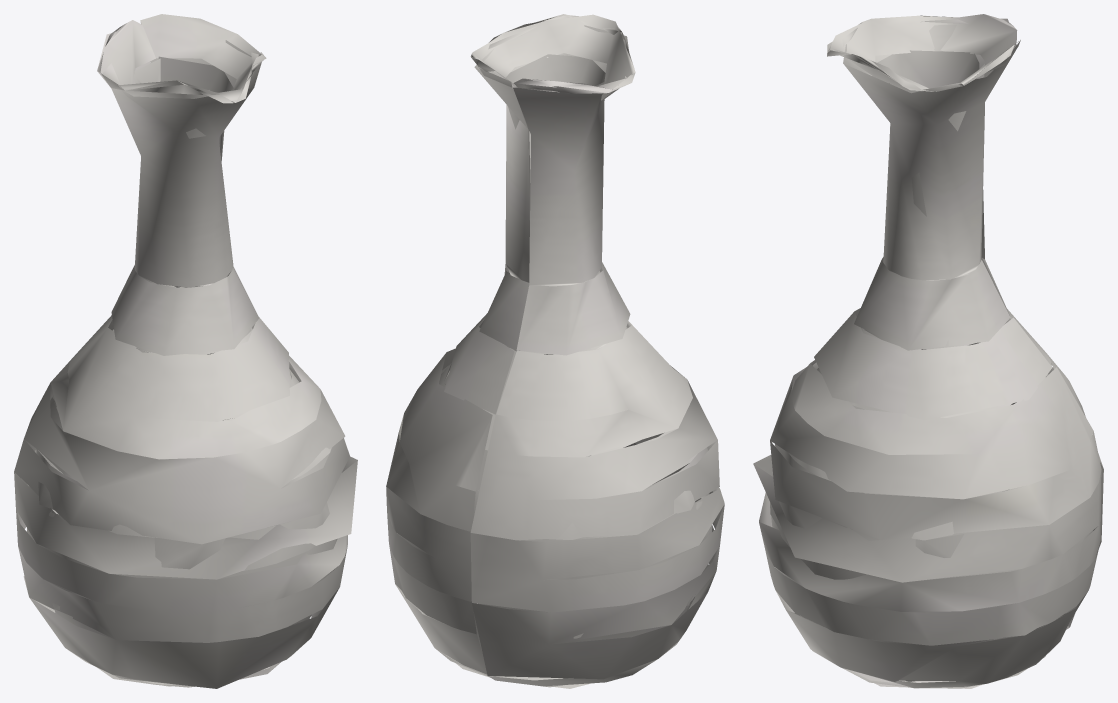
Rendered from ceramic_vase_01.glb.
The picture shows the model from 3 angles, left to right: view 1: azimuth 30°, elevation 25°; view 2: azimuth 150°, elevation 25°; view 3: azimuth 270°, elevation 25°; orthographic projection. The views are drawn at different scales.
Visible parts, largest first — view 1: ceramic_vase_01; view 2: ceramic_vase_01; view 3: ceramic_vase_01.
Part boxes in pixels (x1=…): ceramic_vase_01: x1=14, y1=14, x2=357, y2=688; ceramic_vase_01: x1=386, y1=14, x2=724, y2=688; ceramic_vase_01: x1=753, y1=14, x2=1103, y2=688.
Bounding box in the file's own units: 0.2091 × 0.4018 × 0.2093.
Materials: 1 (1 with a texture image).
